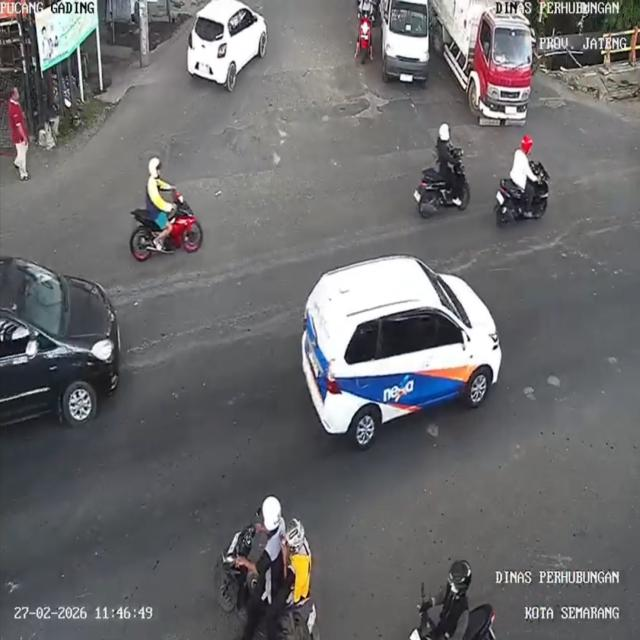motorcycle: (130, 198, 207, 262), (213, 528, 258, 611), (411, 600, 498, 640), (491, 167, 551, 222), (414, 163, 468, 218), (356, 18, 373, 62)
person: (250, 502, 290, 612), (278, 515, 316, 610), (432, 558, 474, 632), (429, 124, 462, 186), (143, 156, 174, 220), (512, 135, 540, 190), (356, 0, 374, 22)
rider_region: (211, 495, 326, 640), (402, 556, 501, 640), (127, 156, 205, 262), (413, 122, 475, 218), (493, 130, 553, 224), (352, 0, 378, 65)
